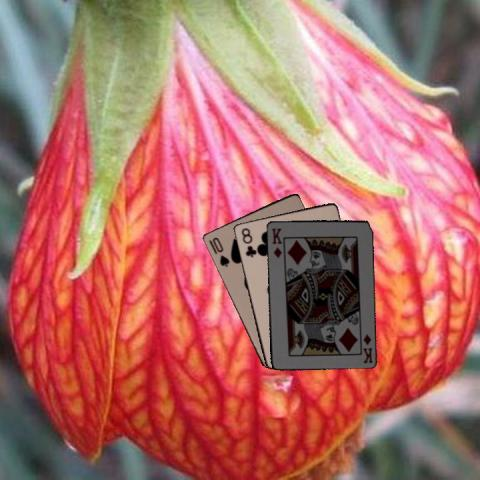10s: (209, 234, 231, 268)
8c: (238, 225, 257, 258)
Kd: (269, 226, 283, 260), (360, 331, 374, 364)
